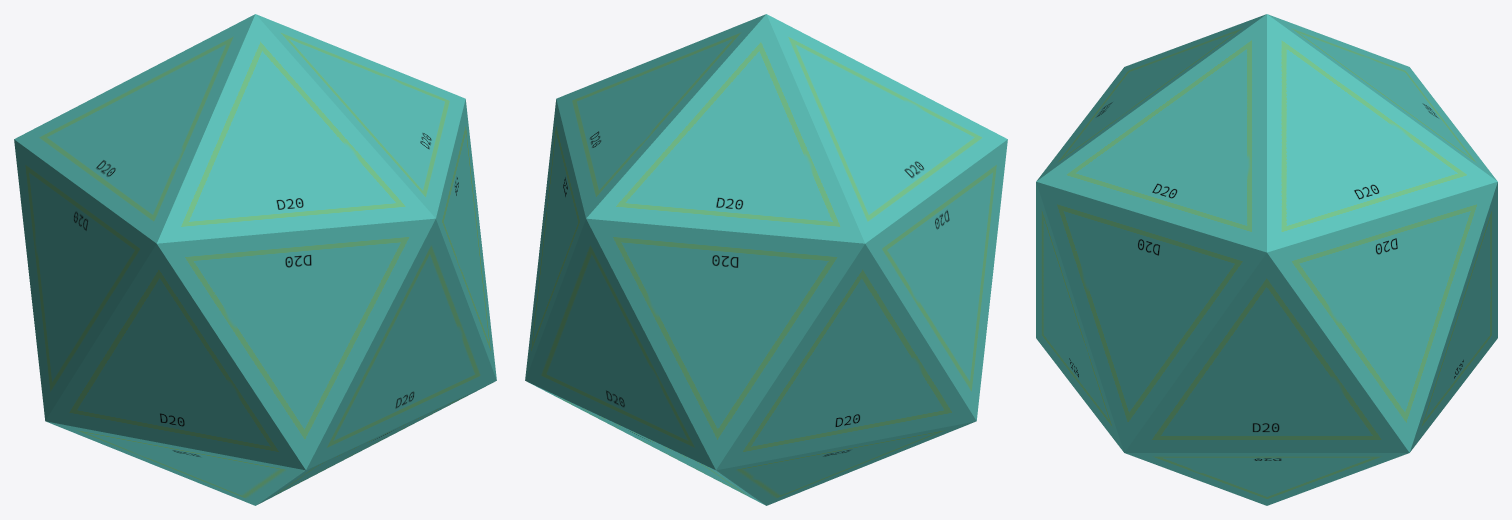
File: D20_Simple.obj
The picture shows the model from 3 angles, left to right: view 1: azimuth 30°, elevation 25°; view 2: azimuth 150°, elevation 25°; view 3: azimuth 270°, elevation 25°; orthographic projection.
Visible parts, largest first — view 1: D20_Simple; view 2: D20_Simple; view 3: D20_Simple.
Boxes of the visible parts, left/top/right/bottom form: D20_Simple: left=14, top=14, right=496, bottom=505; D20_Simple: left=525, top=14, right=1007, bottom=505; D20_Simple: left=1036, top=14, right=1497, bottom=505.
Bounding box in the file's own units: 2.68 × 3 × 2.55.
1 material, 1 textured.
